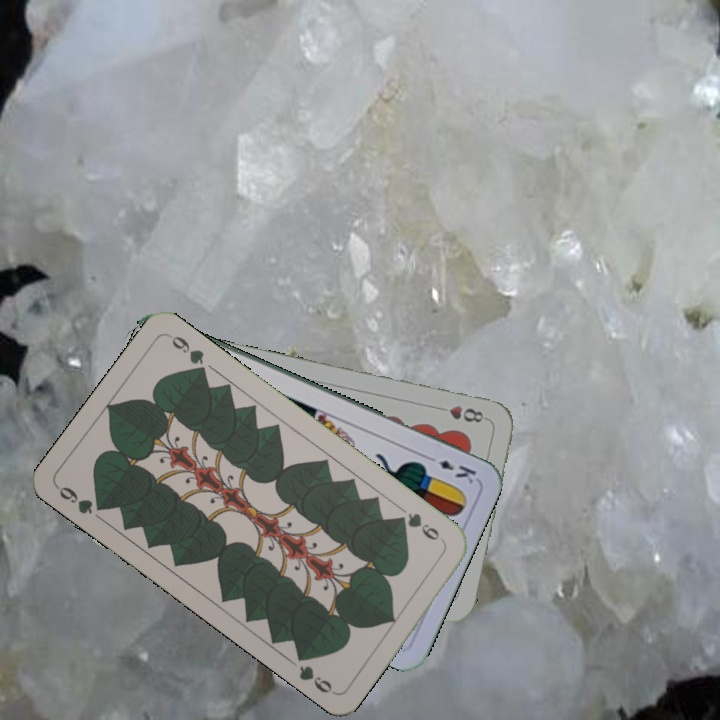EK: (422, 451, 479, 487)
G9: (393, 508, 448, 546), (53, 482, 110, 517)
H8: (445, 401, 486, 426)
